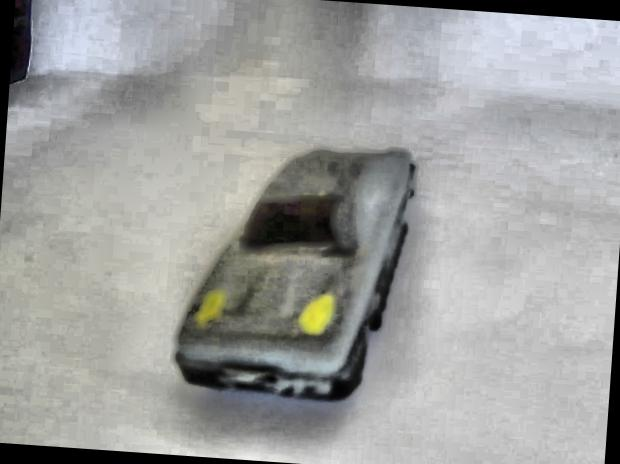normal_car: (162, 132, 422, 410)
